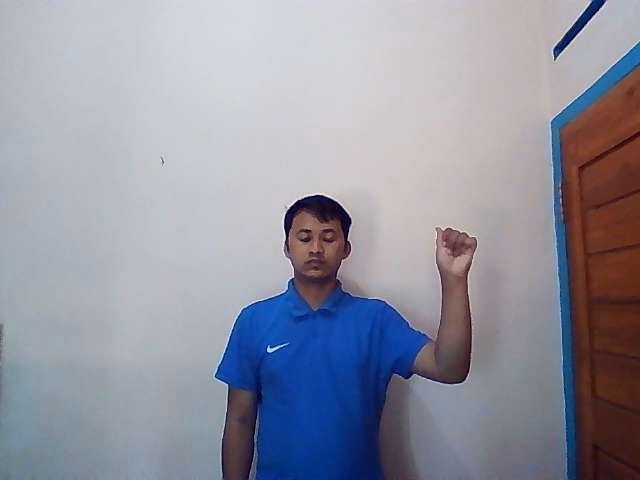A: (434, 225, 477, 277)
